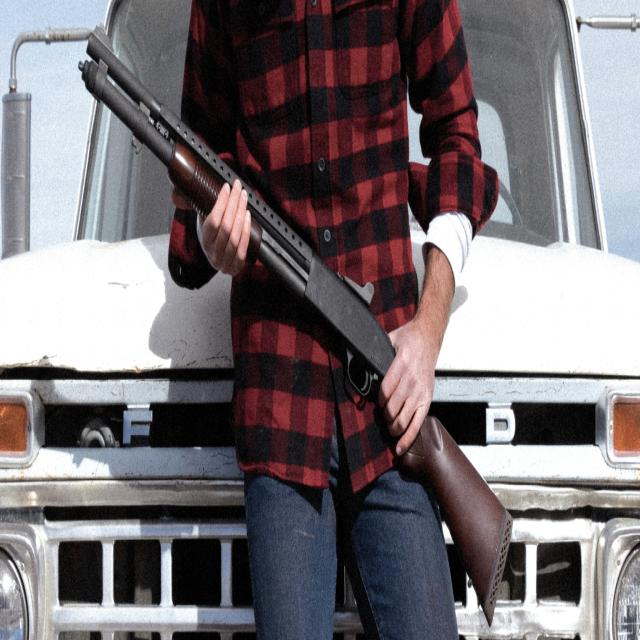ShotGun: (82, 37, 512, 623)
